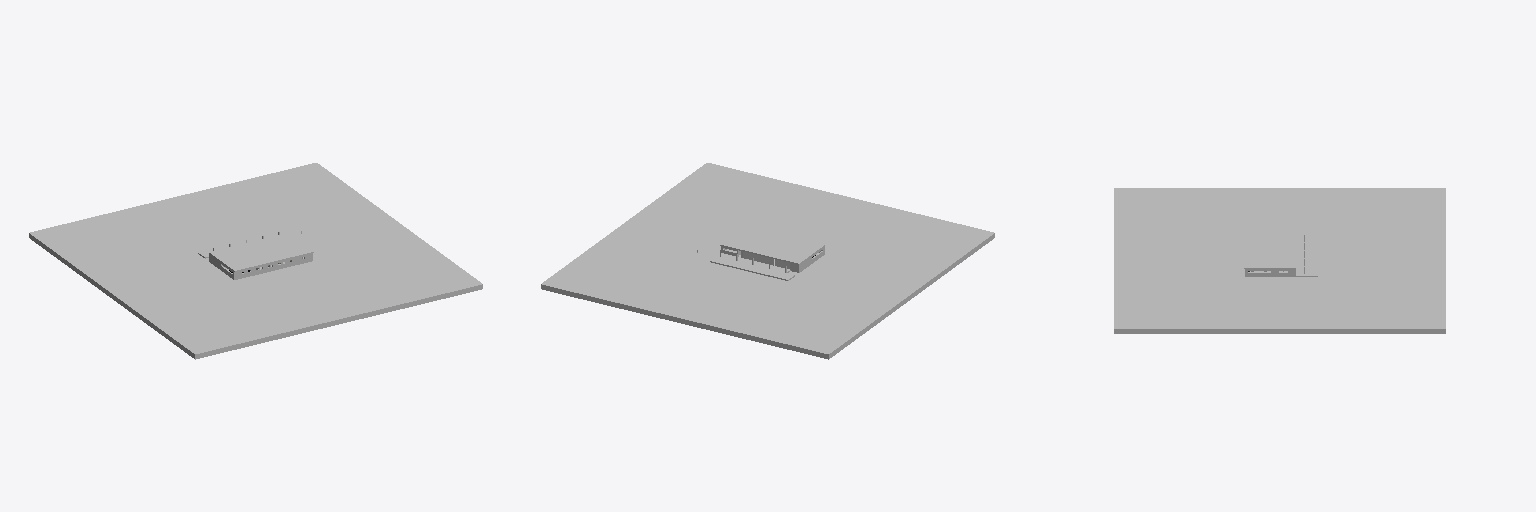
The model's file is noChairsZforward.obj.
3 renders of one model, left to right at view 1: azimuth 30°, elevation 25°; view 2: azimuth 150°, elevation 25°; view 3: azimuth 270°, elevation 25°, orthographic.
Visible parts, largest first — view 1: Box001_Untitled.031, 3dSolid.094_Untitled.815, 3dSolid.050_Untitled.793; view 2: Box001_Untitled.031, 3dSolid.094_Untitled.815, 3dSolid.012_Untitled.188; view 3: Box001_Untitled.031, 3dSolid.094_Untitled.815.
Boxes of the visible parts, x1,y1,x2,y2 form: Box001_Untitled.031: [29, 163, 482, 359]; 3dSolid.094_Untitled.815: [209, 233, 313, 271]; 3dSolid.050_Untitled.793: [209, 253, 312, 278]; Box001_Untitled.031: [541, 163, 994, 359]; 3dSolid.094_Untitled.815: [720, 226, 824, 264]; 3dSolid.012_Untitled.188: [710, 256, 794, 280]; Box001_Untitled.031: [1114, 188, 1445, 333]; 3dSolid.094_Untitled.815: [1244, 229, 1295, 268].
Bounding box in the file's own units: 294 × 14.67 × 294.